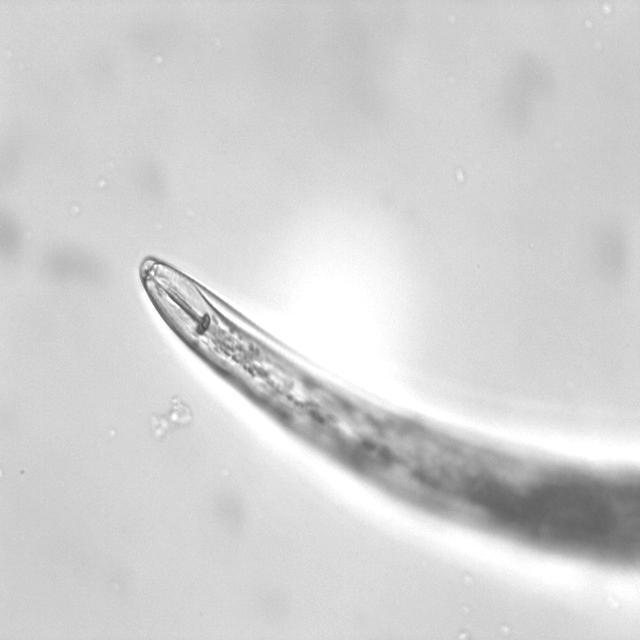Helicotylenchus: (134, 248, 338, 442)
